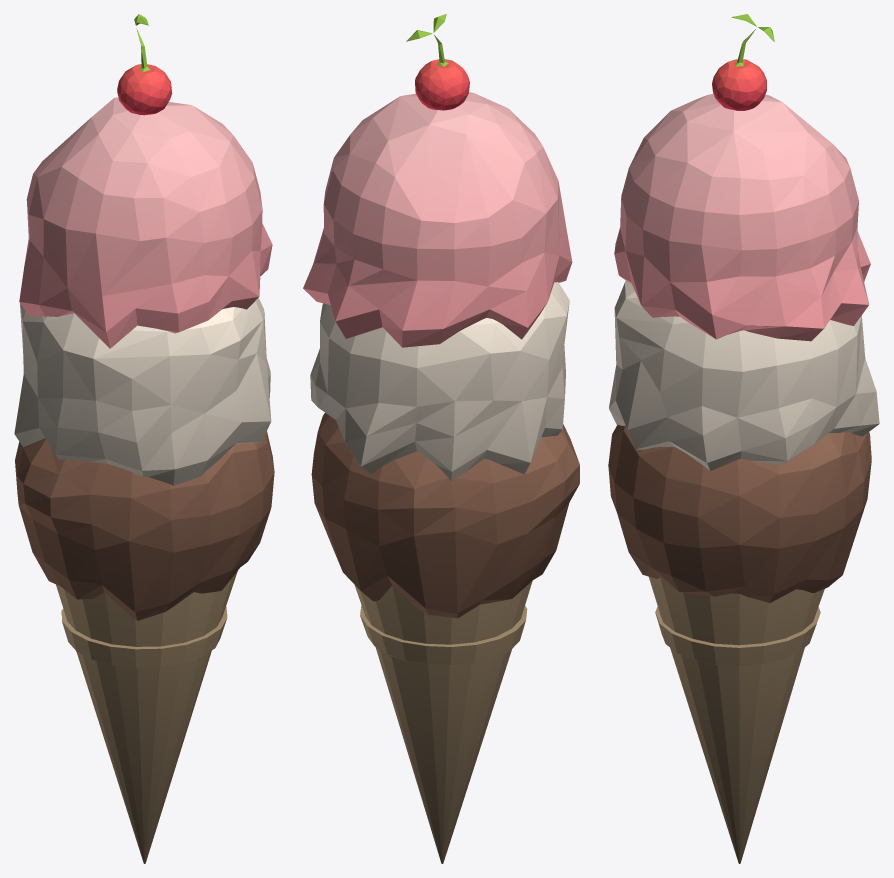
Rendered from Ice_Cream_Asset_1.fbx.
3 renders of one model, left to right at view 1: azimuth 30°, elevation 25°; view 2: azimuth 150°, elevation 25°; view 3: azimuth 270°, elevation 25°, orthographic.
Parts seen in each view (by area): view 1: Ice_Cream; view 2: Ice_Cream; view 3: Ice_Cream.
Part boxes in pixels (<box>): Ice_Cream: <box>14,14,274,863</box>; Ice_Cream: <box>303,14,579,863</box>; Ice_Cream: <box>608,14,879,863</box>.
Bounding box in the file's own units: 101 × 346 × 100.
